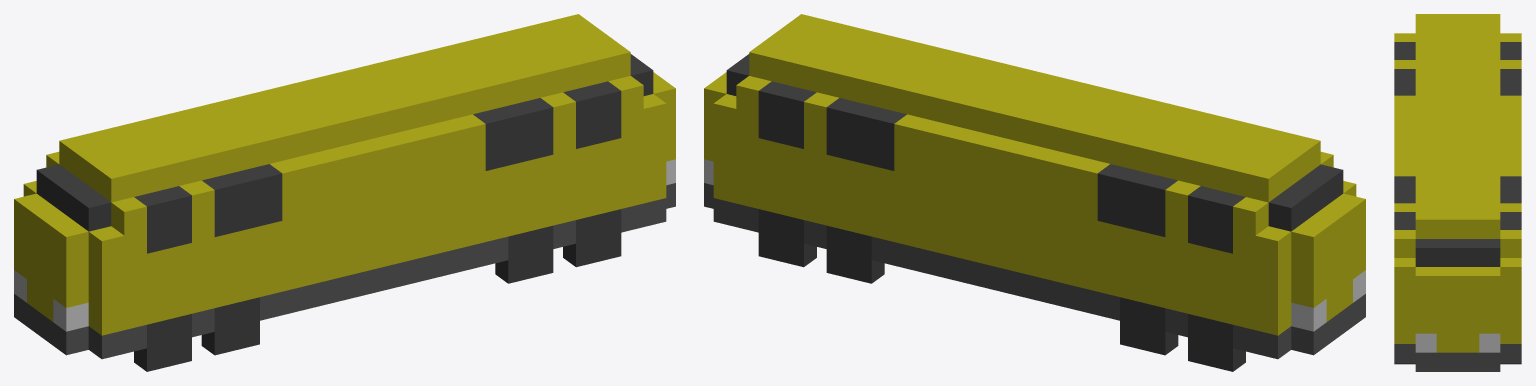
Rendered from train-v3-yellow.gltf.
3 views of the same model, side by side, from view 1: azimuth 30°, elevation 25°; view 2: azimuth 150°, elevation 25°; view 3: azimuth 270°, elevation 25° (orthographic). The views are drawn at different scales.
Visible parts, largest first — view 1: model, wheels; view 2: model, wheels; view 3: model.
Part boxes in pixels (x1,y1,x2,y2): model: (14, 14, 675, 359); wheels: (134, 209, 621, 371); model: (704, 14, 1365, 359); wheels: (758, 209, 1245, 371); model: (1394, 14, 1521, 371).
Size of the model in its own units: 2.7 by 0.8 by 0.6.
Materials: 2 (2 with a texture image).
